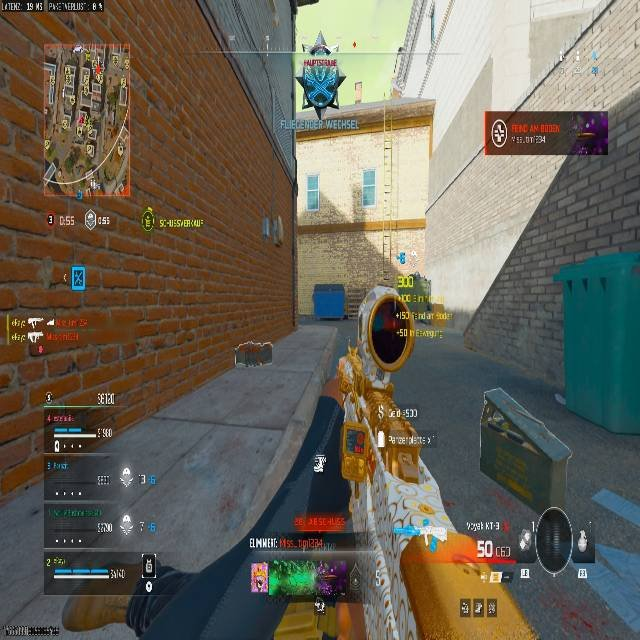head: (358, 285, 413, 364)
player: (298, 33, 344, 118)
